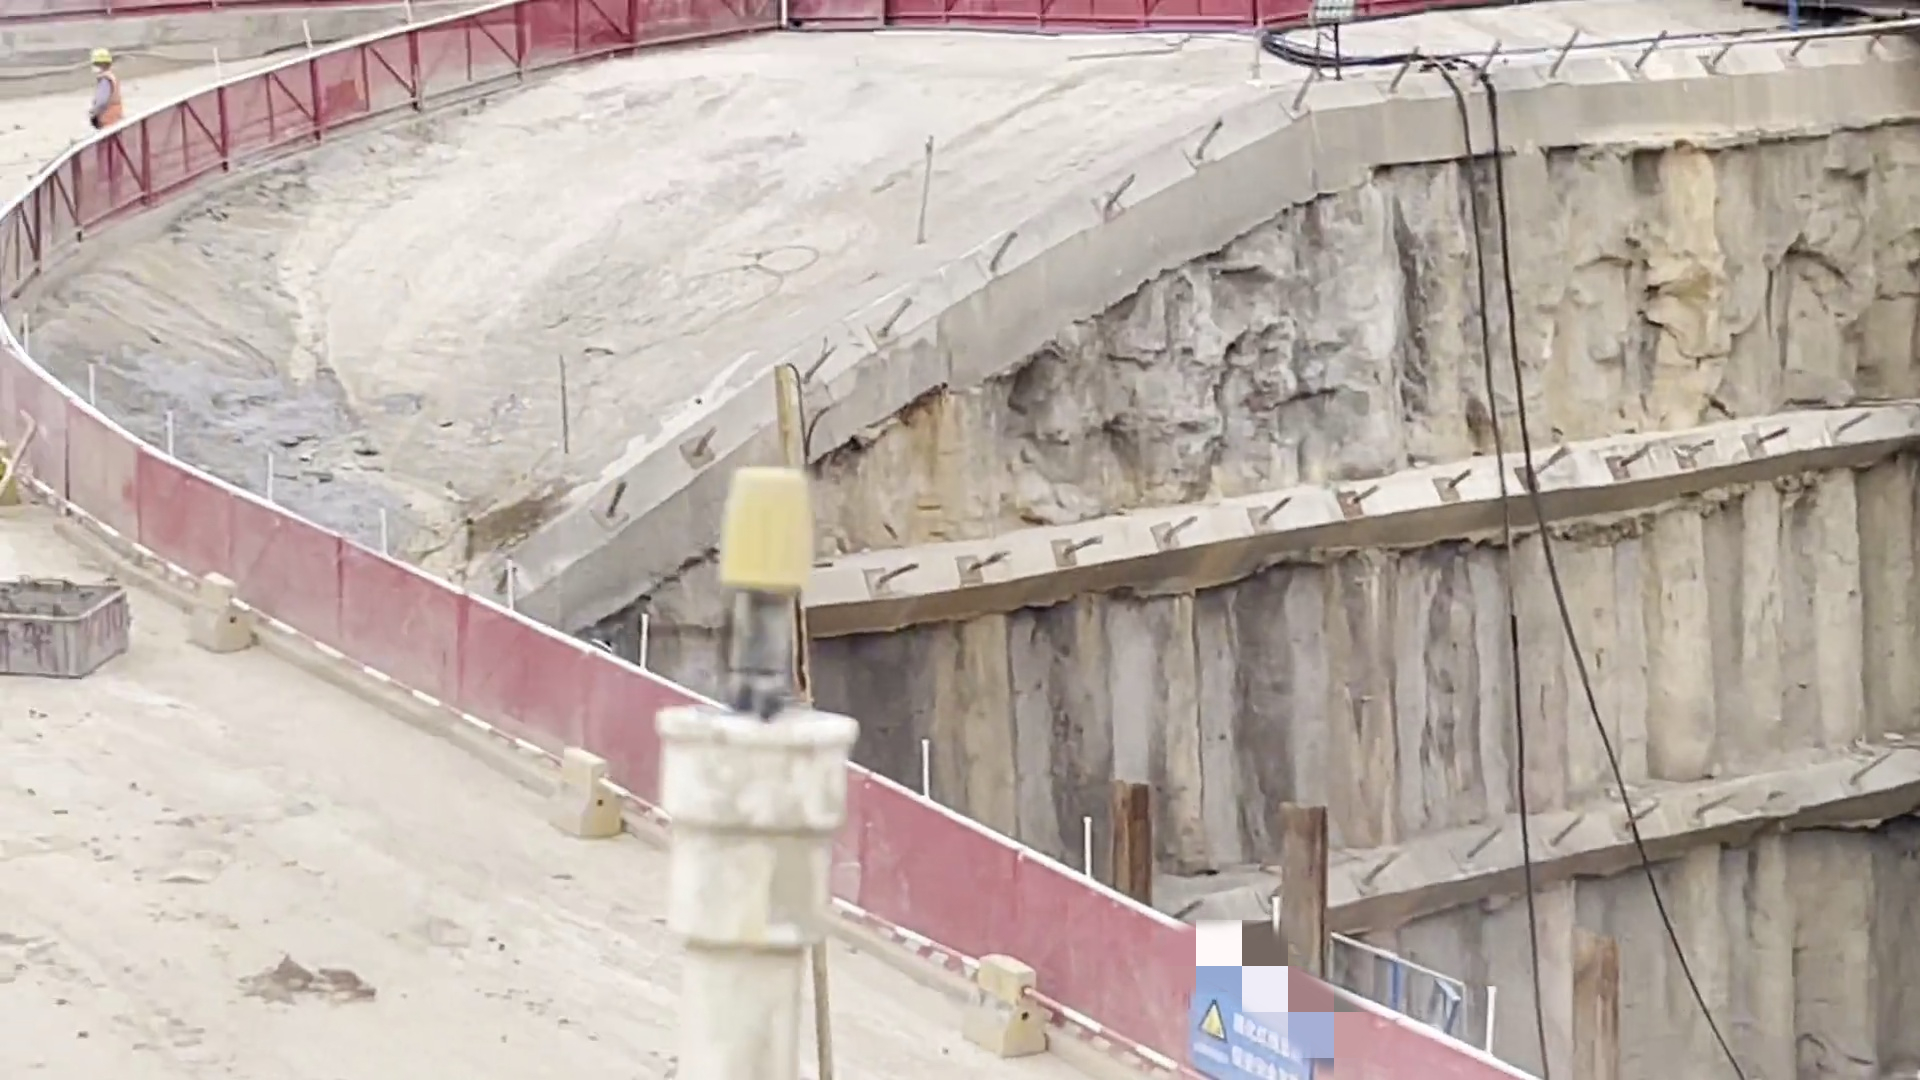fence: (1, 1, 1286, 1024)
helmet: (86, 44, 126, 72)
hopper: (1, 572, 156, 678)
person: (59, 36, 141, 134)
slogan: (1192, 965, 1316, 1073)
vest: (90, 70, 136, 124)
